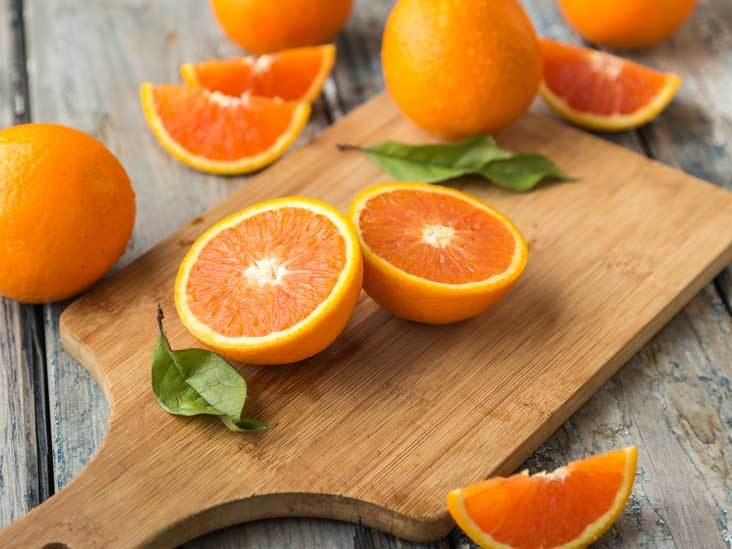orange: (379, 1, 558, 144), (1, 123, 130, 299)
